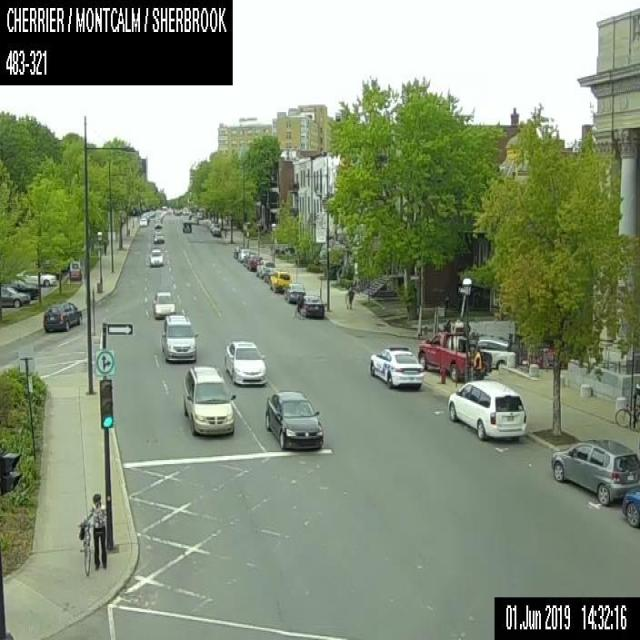pedestrian: (78, 490, 106, 576), (290, 294, 303, 318), (472, 348, 481, 380), (344, 285, 354, 308)
vehicle: (551, 436, 639, 505), (448, 379, 526, 440), (418, 319, 487, 381), (183, 364, 235, 436), (264, 391, 322, 448), (369, 345, 423, 388), (224, 339, 265, 385), (160, 313, 197, 363), (42, 301, 81, 332), (477, 339, 516, 369), (621, 486, 639, 529), (16, 268, 56, 286), (297, 294, 324, 319), (152, 290, 175, 318), (0, 285, 29, 307), (9, 281, 38, 299), (269, 270, 290, 292), (283, 283, 304, 302), (255, 259, 273, 276), (148, 246, 163, 266), (246, 253, 262, 270), (261, 266, 277, 280), (237, 248, 249, 261), (243, 251, 254, 265), (152, 230, 164, 242), (232, 244, 242, 257), (181, 221, 191, 232), (210, 222, 219, 232), (154, 220, 162, 228), (190, 215, 198, 223), (138, 217, 146, 225), (212, 228, 221, 235)
